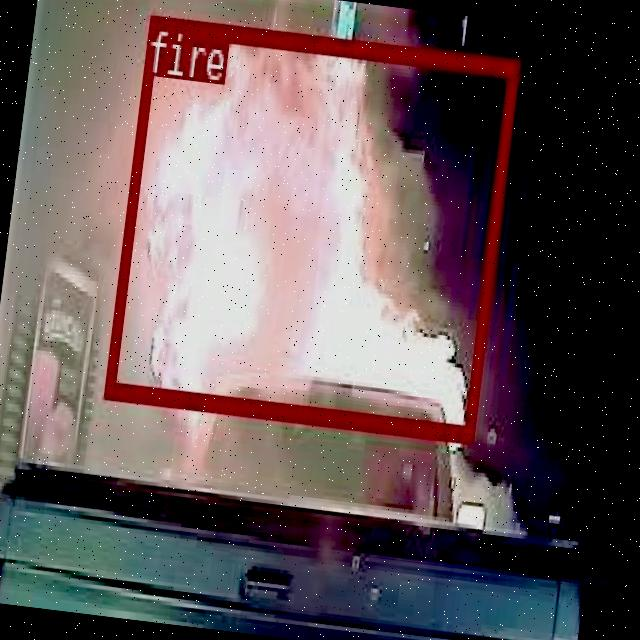fire: (104, 12, 516, 440)
